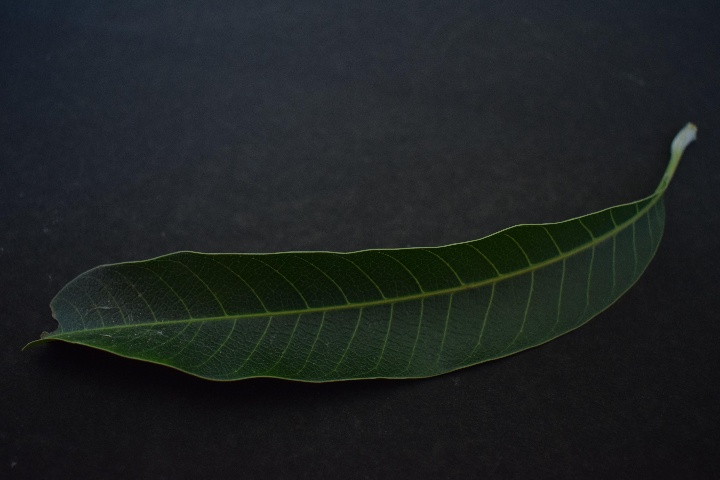healthy: (37, 189, 676, 386)
